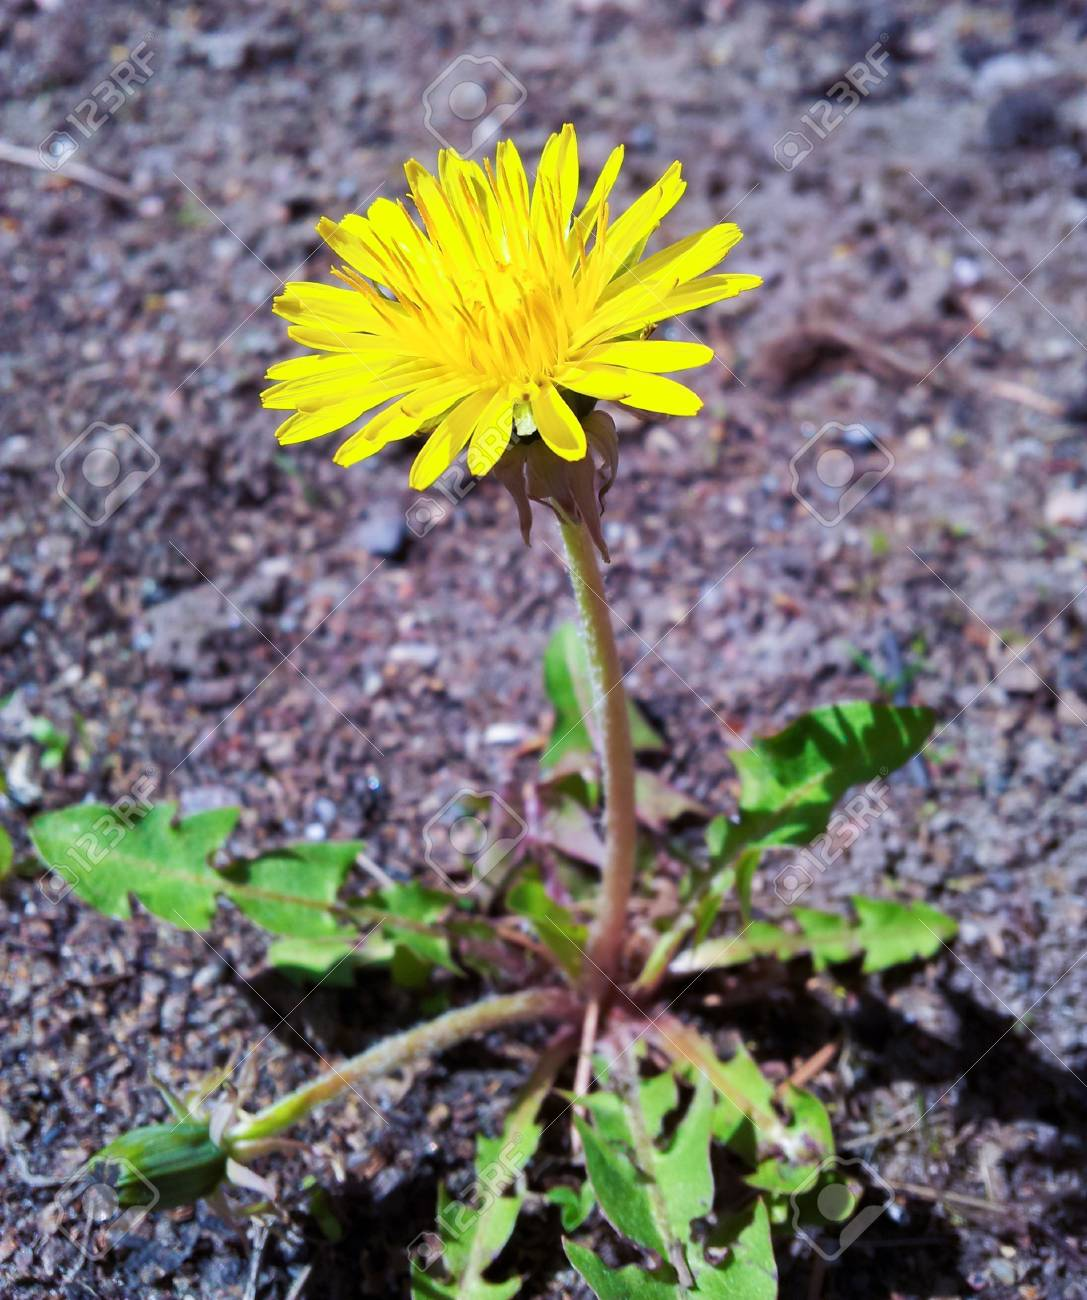dandelion: (273, 165, 730, 438)
